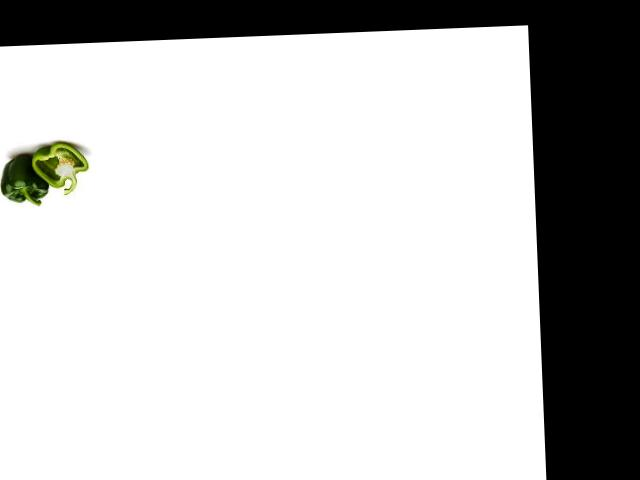bell_pepper: (29, 142, 92, 198)
